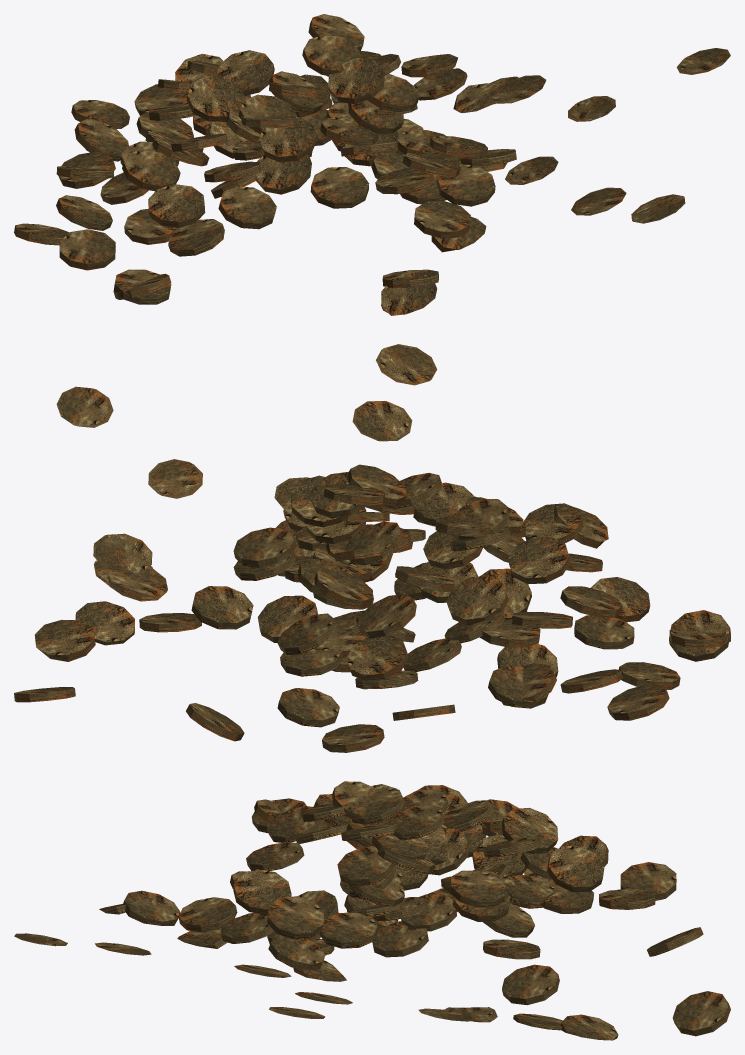
Rendered from coin-pile-v01-photo.glb.
The picture shows the model from 3 angles, top to bottom: view 1: azimuth 30°, elevation 25°; view 2: azimuth 150°, elevation 25°; view 3: azimuth 270°, elevation 25°; orthographic projection. The views are drawn at different scales.
Visible parts, largest first — view 1: coin-pile; view 2: coin-pile; view 3: coin-pile.
Boxes of the visible parts, bbox=[...] form: coin-pile: bbox=[14, 14, 730, 315]; coin-pile: bbox=[14, 344, 730, 752]; coin-pile: bbox=[14, 781, 730, 1040].
Bounding box in the file's own units: 1.13 × 0.2464 × 1.1.
1 material, 1 textured.
